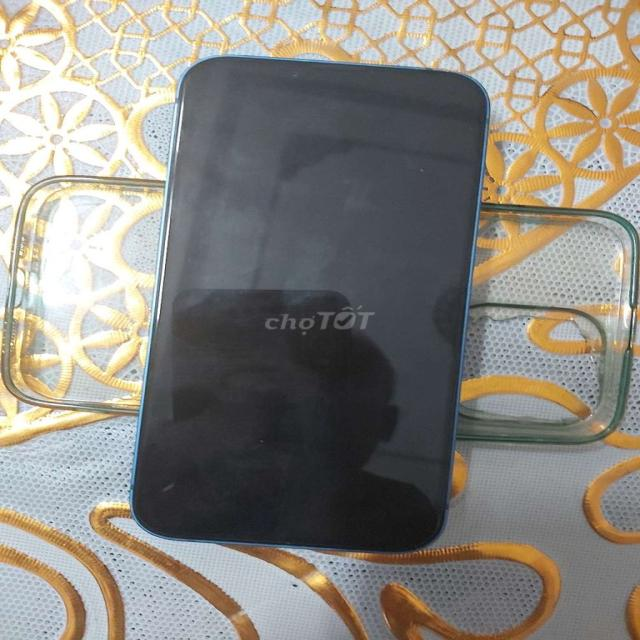gen_12_13: (116, 52, 493, 554)
